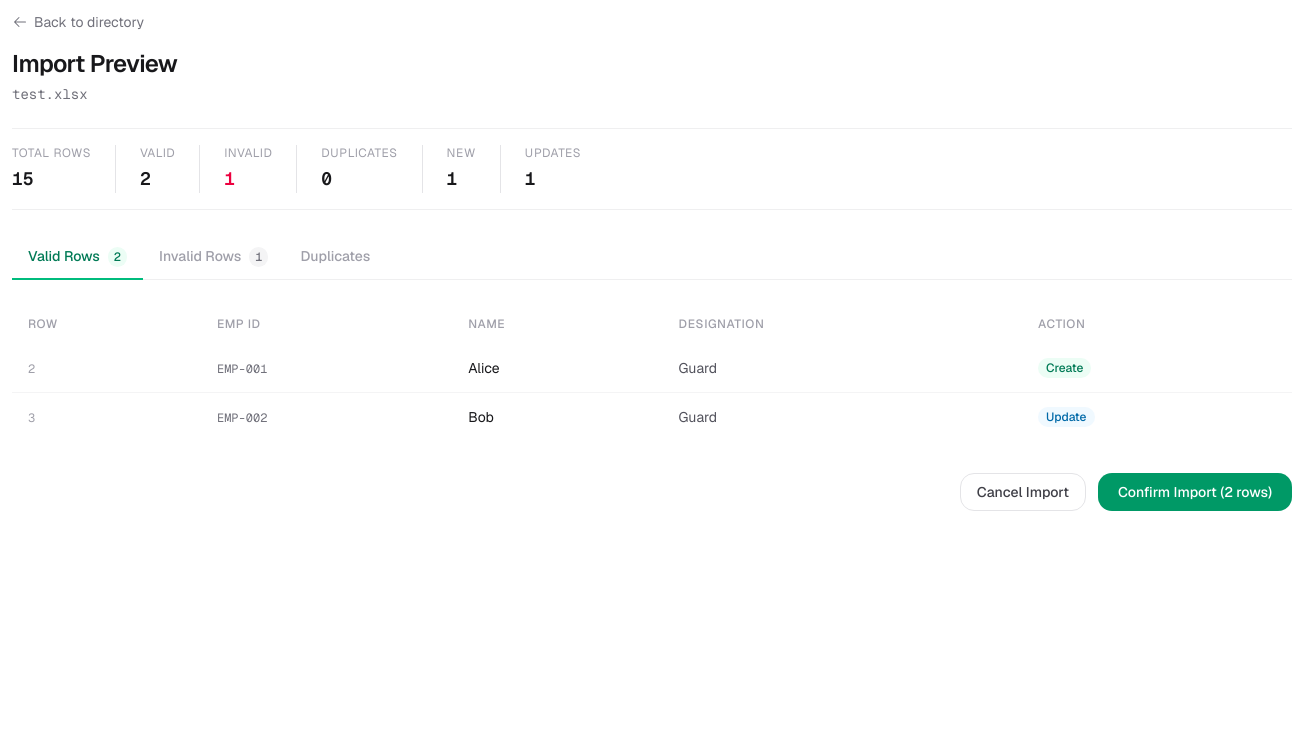
Test: ImportPreviewClient › invalid rows tab › shows a Fix button for each invalid row
# Switch to Invalid Rows tab
Click the tab "Invalid Rows1". click: (214, 257)
box: [143,234,284,280]
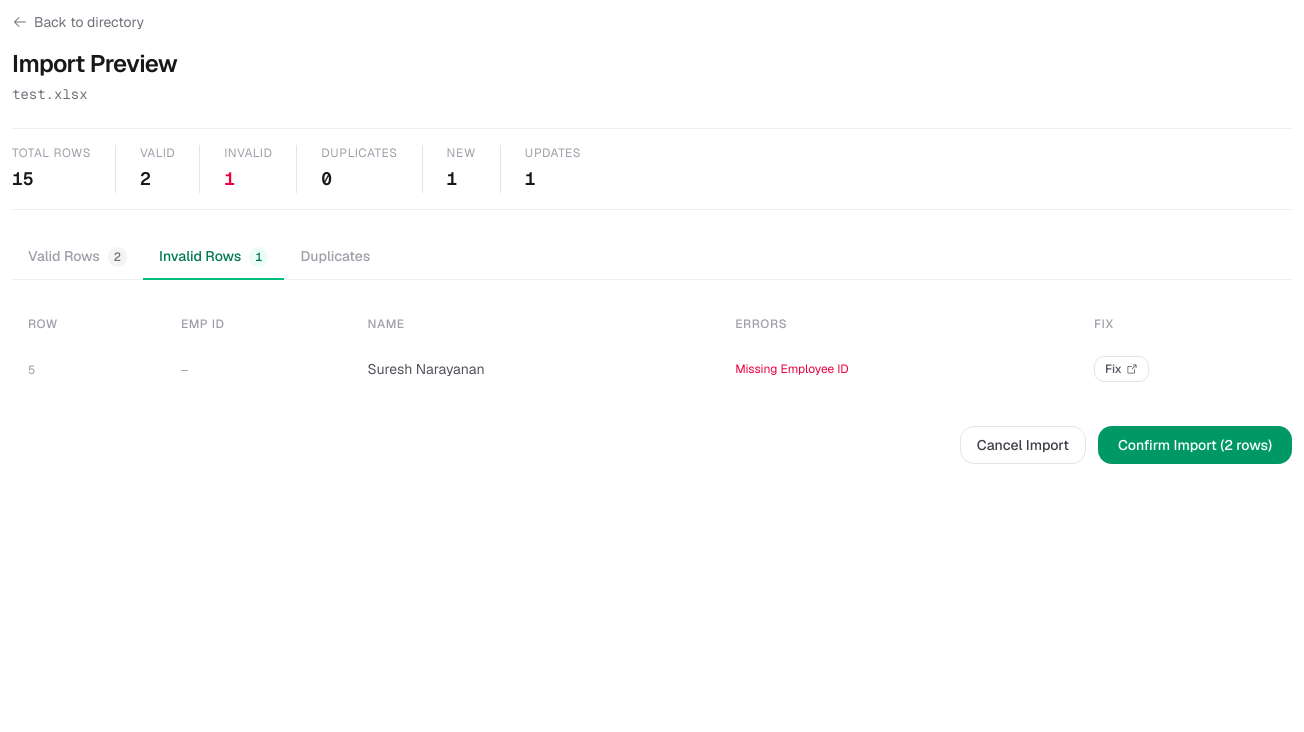
Expected: the button "Fix" is shown, [1094,356,1149,382]
